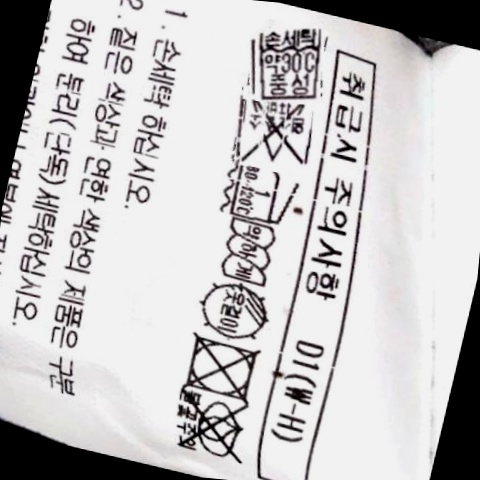DN_tumble_dry: (175, 331, 265, 402)
hand_wash: (246, 25, 330, 102)
iron_low: (225, 162, 297, 227)
line_dry_in_shade: (193, 279, 277, 342)
wring: (217, 217, 278, 288)
